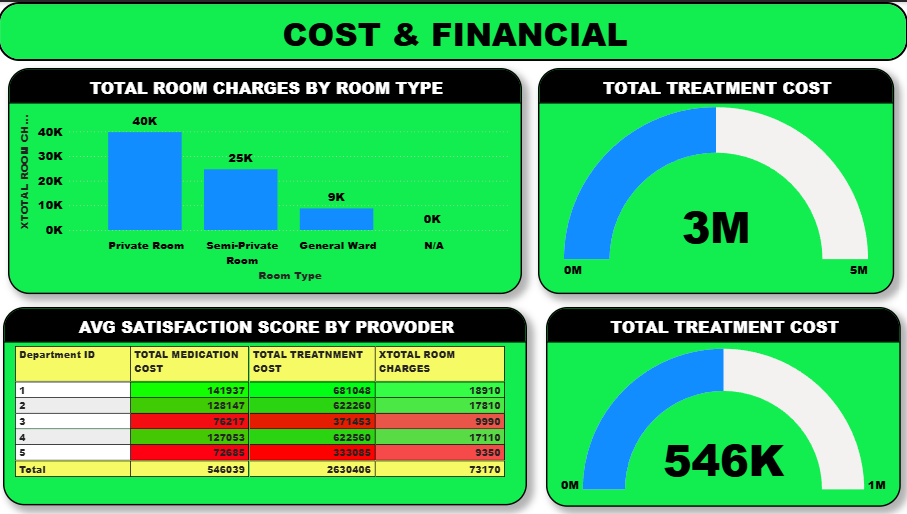

This screenshot's page, from the dashboard's own definition file:
{"tool":"powerbi","page":{"name":"Cost & Financial Analytics","canvas":[1280,720],"ordinal":2},"visuals":[{"type":"textbox","title":"COST & FINANCIAL","box":[0,0,1280,83],"z":0},{"type":"tableEx","title":"AVG SATISFACTION SCORE BY PROVODER","fields":{"Values":["visits.Department ID","XMEASURE.TOTAL MEDISION COST","XMEASURE.TOTAL TREATNMENT COST","XMEASURE.XTOTAL ROOM CHARGES"]},"box":[7,429,737.1,278.5],"z":1000},{"type":"clusteredColumnChart","title":"TOTAL ROOM CHARGES BY ROOM TYPE","fields":{"Y":["XMEASURE.XTOTAL ROOM CHARGES"],"Category":["visits.Room Type"]},"box":[14.1,92.8,723,317.9],"z":2000},{"type":"gauge","title":"TOTAL TREATMENT COST","fields":{"Y":["Sum(visits.Treatment Cost)"]},"box":[759.6,92.8,500.7,317.9],"z":3000},{"type":"gauge","title":"TOTAL TREATMENT COST","fields":{"Y":["XMEASURE.TOTAL MEDICATION COST"]},"box":[770.8,429,499.3,281.3],"z":4000}]}

Visuals, with their boxes in screenshot pixels (x1, y1, x2, y2), scaled from the page's 1280x720 canvas onto the 907x514 screenshot:
"COST & FINANCIAL" textbox: crop(0, 0, 906, 59)
"AVG SATISFACTION SCORE BY PROVODER" tableEx: crop(5, 306, 527, 505)
"TOTAL ROOM CHARGES BY ROOM TYPE" clusteredColumnChart: crop(10, 66, 522, 293)
"TOTAL TREATMENT COST" gauge: crop(538, 66, 893, 293)
"TOTAL TREATMENT COST" gauge: crop(546, 306, 900, 507)
